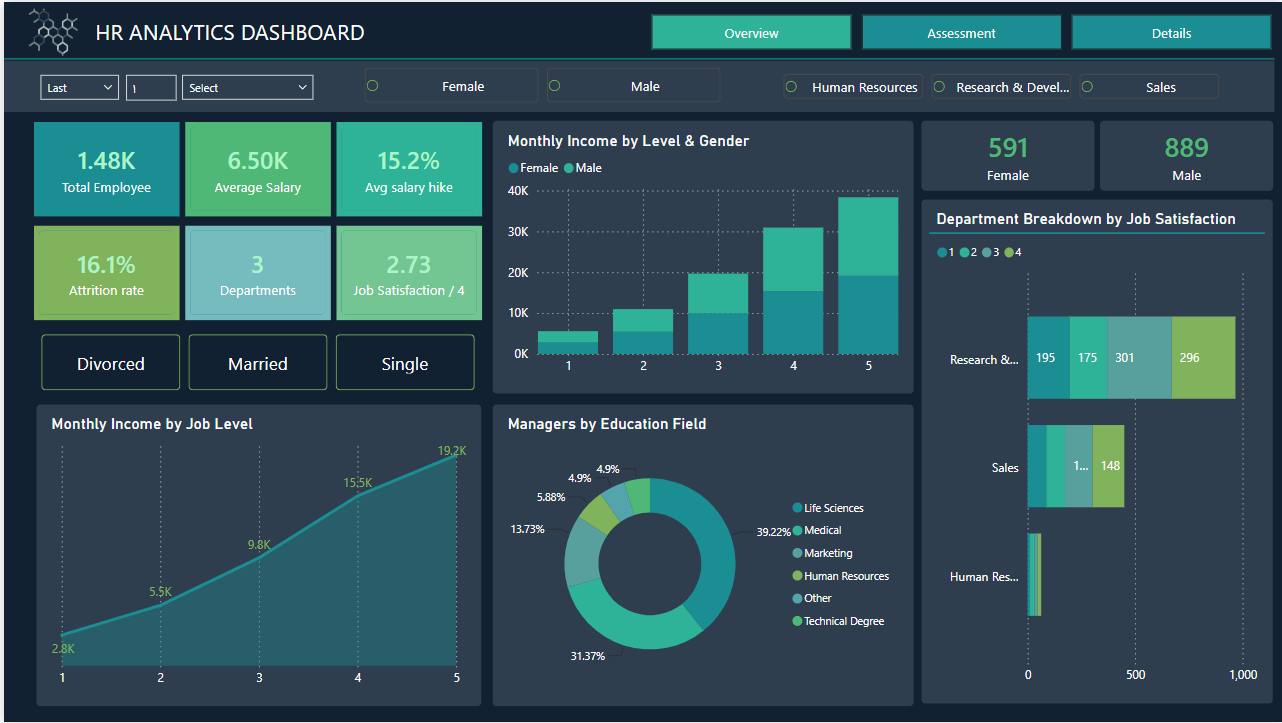

The page's visual inventory and layout, read from the dashboard file:
{"tool":"powerbi","page":{"name":"Overview","canvas":[1280,720],"ordinal":0},"visuals":[{"type":"areaChart","title":"Monthly Income by Job Level","fields":{"Category":["HR_Analytics.JobLevel"],"Y":["Avg(HR_Analytics.MonthlyIncome)"]},"box":[32.1,402.6,444.9,301.3],"z":0},{"type":"donutChart","title":"Managers by Education Field","fields":{"Category":["HR_Analytics.EducationField"],"Y":["CountNonNull(HR_Analytics.EmpID)"]},"box":[488.5,402.6,420.5,301.3],"z":1000},{"type":"columnChart","title":"Monthly Income by Level & Gender","fields":{"Category":["HR_Analytics.JobLevel"],"Series":["HR_Analytics.Gender"],"Y":["Avg(HR_Analytics.MonthlyIncome)"]},"box":[488.5,119,420.5,273.1],"z":2000},{"type":"barChart","title":"Department Breakdown by Job Satisfaction","fields":{"Category":["HR_Analytics.Department"],"Series":["HR_Analytics.JobSatisfaction"],"Y":["CountNonNull(HR_Analytics.EmpID)"]},"box":[917.9,197.4,361.5,505.1],"z":3000},{"type":"textbox","box":[85.9,9.4,379.7,41.4],"z":4000},{"type":"shape","box":[0,51.3,1270.5,11.5],"z":5000},{"type":"shape","box":[0,59,1270.5,51.3],"z":6000},{"type":"image","box":[0,4.7,98.4,50.8],"z":7000},{"type":"cardVisual","fields":{"Data":["CountNonNull(HR_Analytics.EmployeeNumber)"]},"box":[29.5,120.5,145.4,94.1],"z":8000},{"type":"cardVisual","fields":{"Data":["Avg(HR_Analytics.MonthlyIncome)"]},"box":[180.8,120.5,145.4,94.1],"z":9000},{"type":"cardVisual","fields":{"Data":["HR_Analytics.Avg salary hike%"]},"box":[332.1,120.5,145.4,94.1],"z":10000},{"type":"cardVisual","fields":{"Data":["HR_Analytics.Attrition rate %","HR_Analytics.Attrition rate %"]},"box":[29.5,224.4,145.4,94.1],"z":11000},{"type":"cardVisual","fields":{"Data":["Count(HR_Analytics.Department)"]},"box":[180.8,224.4,145.4,94.1],"z":12000},{"type":"cardVisual","fields":{"Data":["Avg(HR_Analytics.JobSatisfaction)"]},"box":[332.1,224.4,145.4,94.1],"z":13000},{"type":"cardVisual","fields":{"Data":["CountNonNull(HR_Analytics.EmployeeCount)"]},"box":[913,114.1,183.3,80.8],"z":14000},{"type":"cardVisual","fields":{"Data":["CountNonNull(HR_Analytics.EmployeeNumber)"]},"box":[1091,114.1,183,80.8],"z":15000},{"type":"advancedSlicerVisual","fields":{"Values":["HR_Analytics.MaritalStatus"]},"box":[32.1,326.9,444.9,66.7],"z":16000},{"type":"advancedSlicerVisual","fields":{"Values":["HR_Analytics.Department"]},"box":[773.6,66.4,448.7,37],"z":17000},{"type":"slicer","fields":{"Values":["Table1.Date"]},"box":[24.4,62.8,300,41],"z":18000},{"type":"advancedSlicerVisual","fields":{"Values":["HR_Analytics.Gender"]},"box":[355.1,60.3,369.2,47.4],"z":19000},{"type":"pageNavigator","box":[648,12,621.8,35.9],"z":20000}]}

Visuals, with their boxes in screenshot pixels (x1, y1, x2, y2), scaled from the page's 1280x720 canvas onto the 1282x723 screenshot:
"Monthly Income by Job Level" areaChart: bbox=[32, 404, 478, 707]
"Managers by Education Field" donutChart: bbox=[489, 404, 910, 707]
"Monthly Income by Level & Gender" columnChart: bbox=[489, 119, 910, 394]
"Department Breakdown by Job Satisfaction" barChart: bbox=[919, 198, 1281, 705]
textbox: bbox=[86, 9, 466, 51]
shape: bbox=[0, 52, 1272, 63]
shape: bbox=[0, 59, 1272, 111]
image: bbox=[0, 5, 99, 56]
cardVisual - CountNonNull(HR_Analytics.EmployeeNumber): bbox=[30, 121, 175, 215]
cardVisual - Avg(HR_Analytics.MonthlyIncome): bbox=[181, 121, 327, 215]
cardVisual - HR_Analytics.Avg salary hike%: bbox=[333, 121, 478, 215]
cardVisual - HR_Analytics.Attrition rate % x HR_Analytics.Attrition rate %: bbox=[30, 225, 175, 320]
cardVisual - Count(HR_Analytics.Department): bbox=[181, 225, 327, 320]
cardVisual - Avg(HR_Analytics.JobSatisfaction): bbox=[333, 225, 478, 320]
cardVisual - CountNonNull(HR_Analytics.EmployeeCount): bbox=[914, 115, 1098, 196]
cardVisual - CountNonNull(HR_Analytics.EmployeeNumber): bbox=[1093, 115, 1276, 196]
advancedSlicerVisual - HR_Analytics.MaritalStatus: bbox=[32, 328, 478, 395]
advancedSlicerVisual - HR_Analytics.Department: bbox=[775, 67, 1224, 104]
slicer - Table1.Date: bbox=[24, 63, 325, 104]
advancedSlicerVisual - HR_Analytics.Gender: bbox=[356, 61, 725, 108]
pageNavigator: bbox=[649, 12, 1272, 48]
